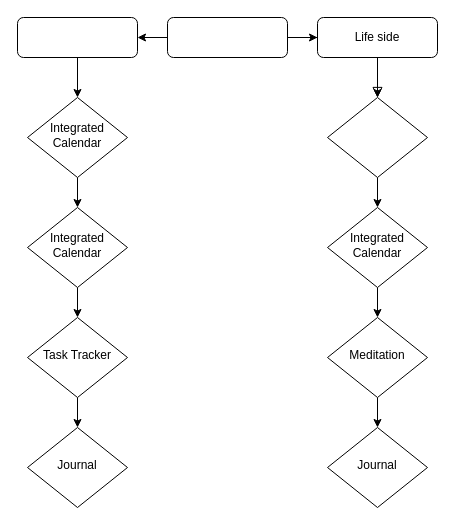
The diagram is 455 pixels wide and 525 high, and some of its shapes have lost their labels. The centre of each missing label's shape, as x and y in pixels:
Home Tasks Tracker: point 377,137
Main screen: point 227,37
Work side: point 77,37
